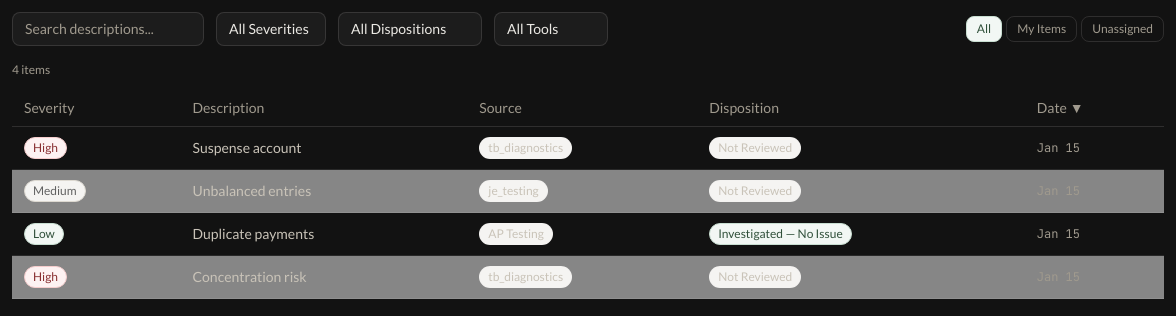
Test: FollowUpItemsTable › filters by assignment (Unassigned)
Click the button "Unassigned".
click(1123, 29)  # box 1081,16 -> 1164,42
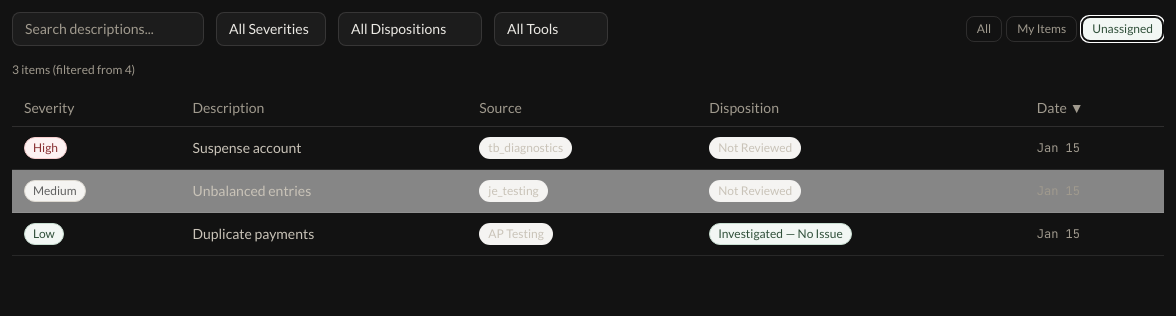
Check: the text "Suspense account" is shown, box 192,139 -> 302,156
Check: the text "Concentration risk" is gone
